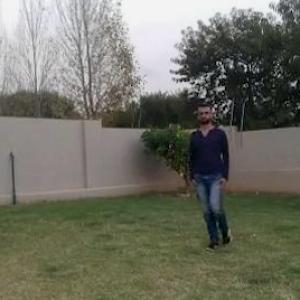follow: (192, 102, 228, 242)
